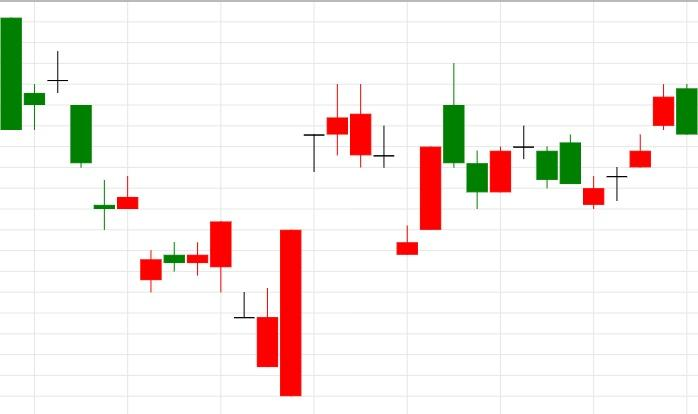bearish_engulfing_fall: (582, 84, 698, 209)
